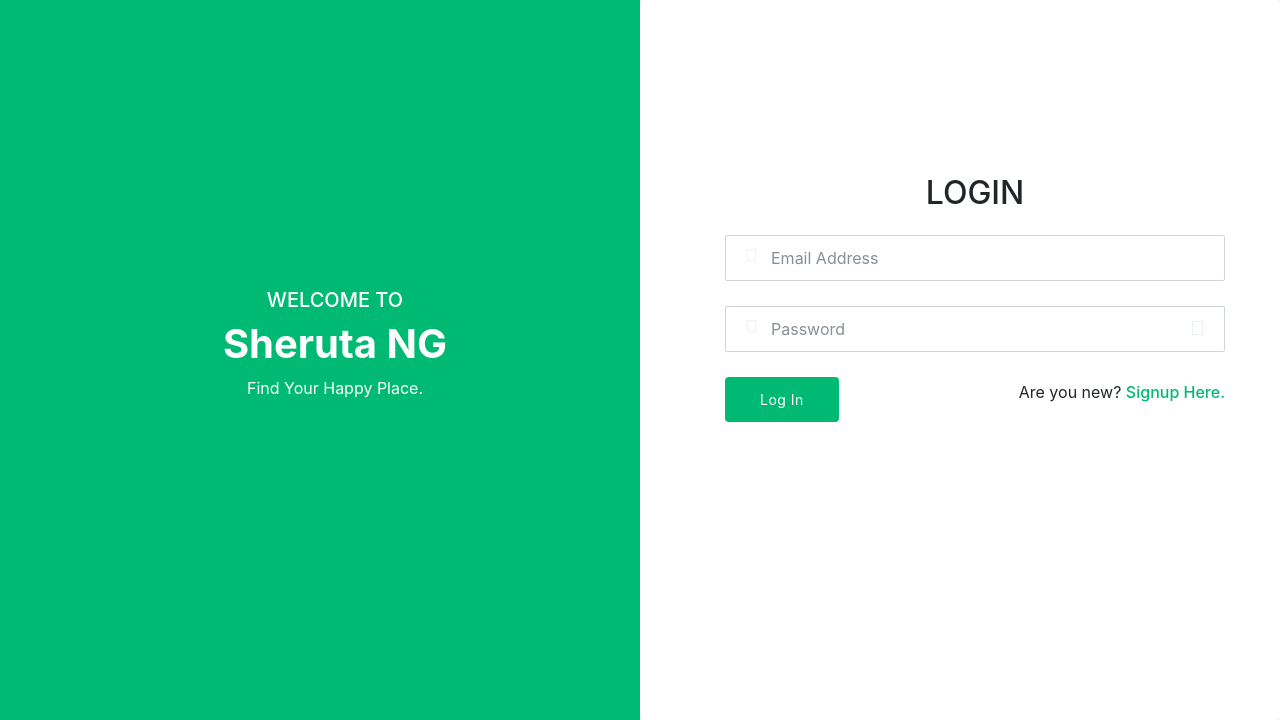
Test: elements should disable login btn is clicked on
In the field with test id "email-input": (975, 258) [725,235,1225,281], type "test@mail.com"
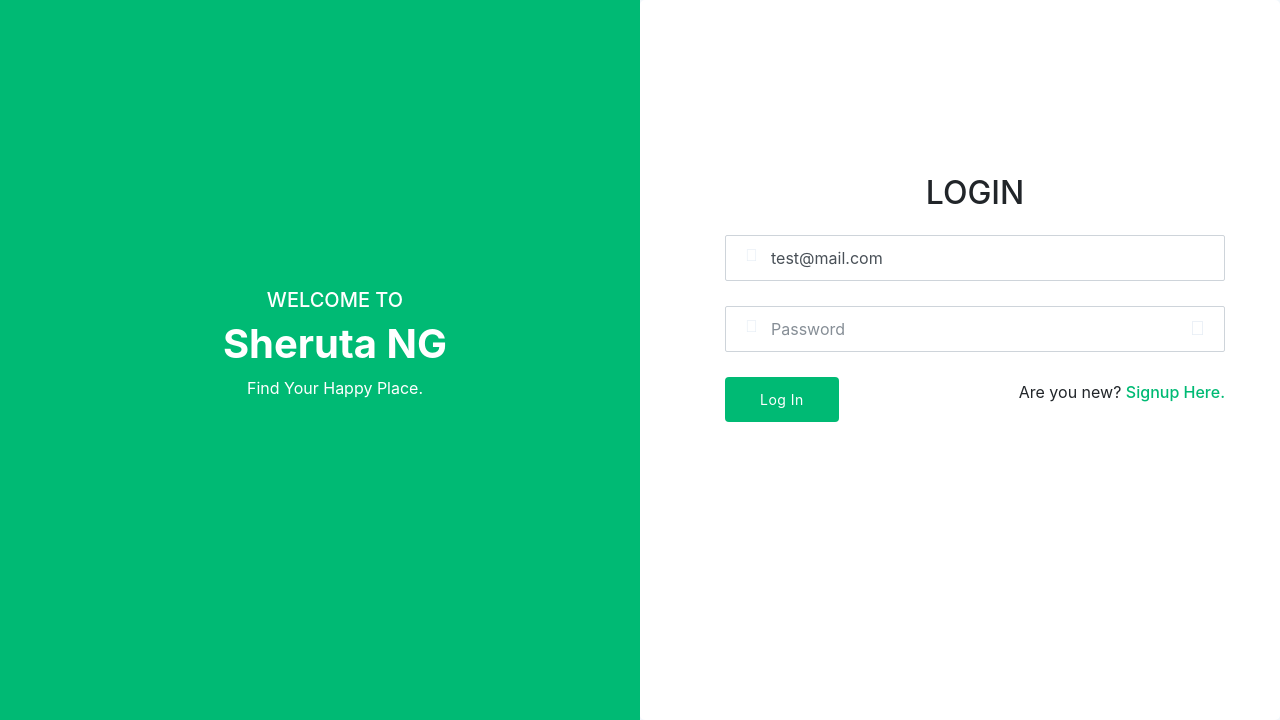
In the password field with test id "password-input": (975, 329) [725,306,1225,352], type "superman"
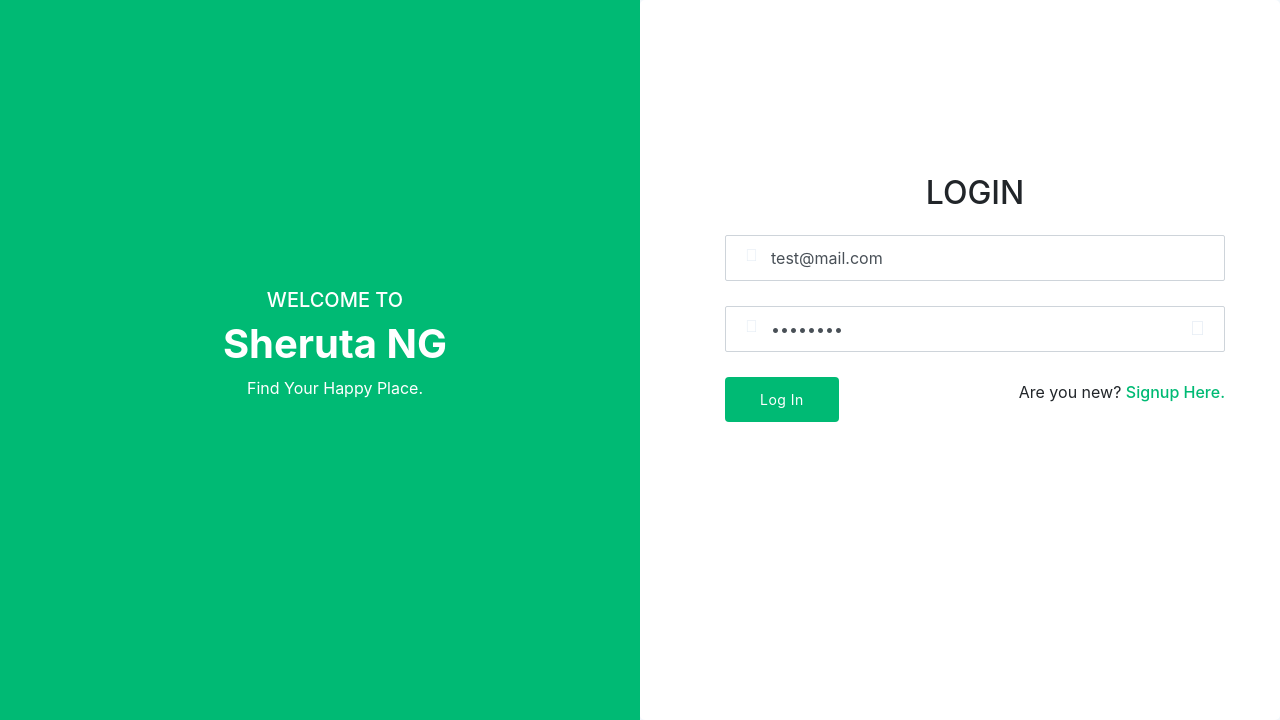
Click the button with test id "login-btn": (782, 400) [725,377,839,422]
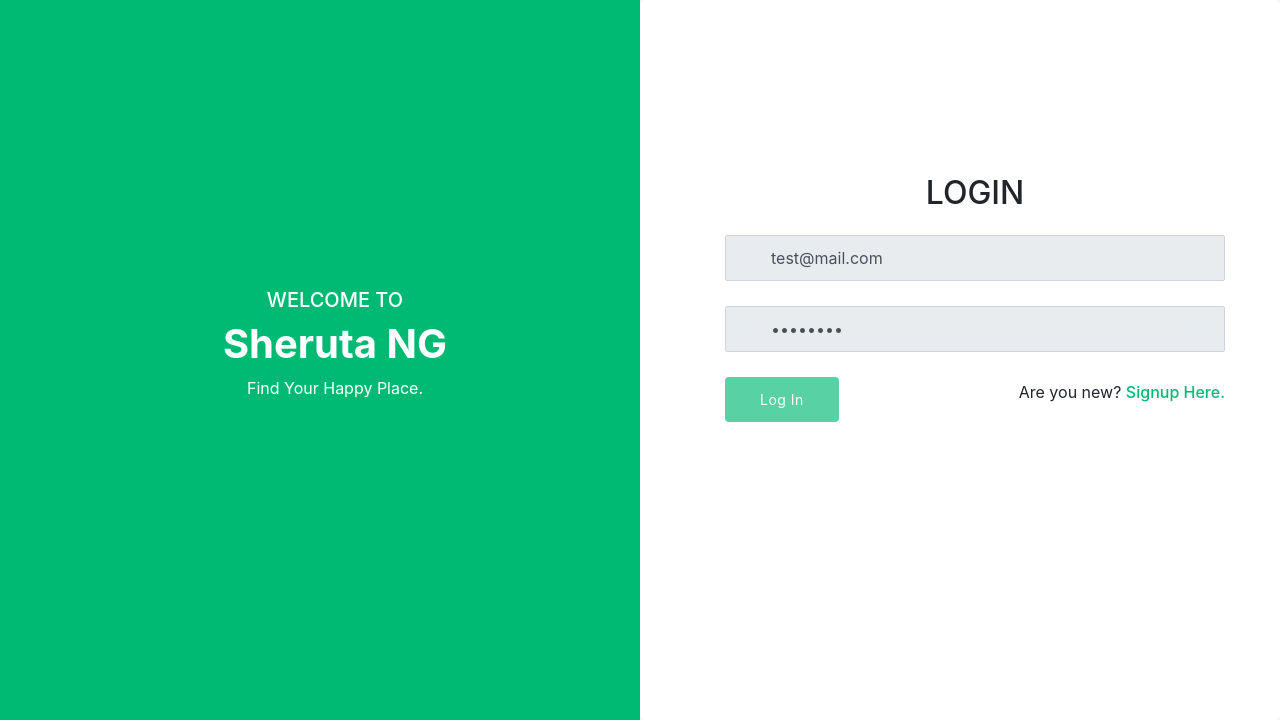
Expected: the field with test id "email-input" is disabled, [725,235,1225,281]
Result: the button with test id "login-btn" is disabled at [725,377,839,422]
